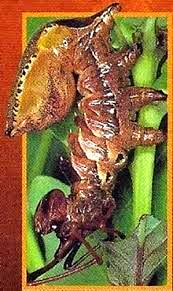Lobster Moth: (5, 4, 167, 255)
